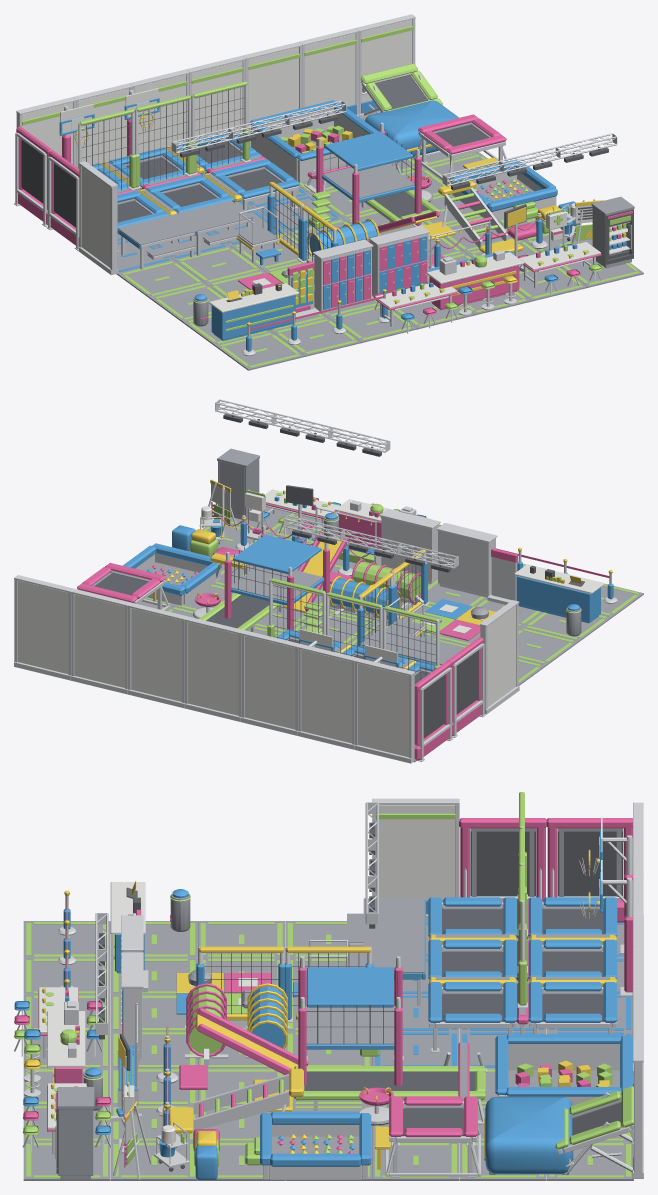
File: trampoline-park-soft-play-starter.glb
3 views of the same model, one above another, from view 1: azimuth 30°, elevation 25°; view 2: azimuth 150°, elevation 25°; view 3: azimuth 270°, elevation 25° (orthographic). The views are drawn at different scales.
Visible parts, largest first — view 1: 054-wall-panel-module/0, 053-wall-panel-module/0, 052-wall-panel-module/0, 079-foam-pit-frame-with-cubes/0, 051-wall-panel-module/0, 050-wall-panel-module/0, 085-soft-play-frame-tower-with-slide/2, 058-wall-panel-module/0, 082-airbag-landing-block/0, 055-wall-panel-module/0, 099-reception-desk-with-screen/0, 085-soft-play-frame-tower-with-slide/1 (+90 smaller); view 2: 055-wall-panel-module/0, 051-wall-panel-module/0, 050-wall-panel-module/0, 049-wall-panel-module/0, 053-wall-panel-module/0, 052-wall-panel-module/0, 054-wall-panel-module/0, 101-locker-bank/0, 102-locker-bank/0, 058-wall-panel-module/0, 085-soft-play-frame-tower-with-slide/2, 099-reception-desk-with-screen/0 (+47 smaller); view 3: 058-wall-panel-module/0, 082-airbag-landing-block/0, 085-soft-play-frame-tower-with-slide/1, 085-soft-play-frame-tower-with-slide/2, 086-ball-pit-frame-with-balls/2, 079-foam-pit-frame-with-cubes/2, 056-wall-trampoline-module/1, 085-soft-play-frame-tower-with-slide/3, 113-vending-machine/0, 057-wall-trampoline-module/1, 080-tumble-track-lane/1, 079-foam-pit-frame-with-cubes/0 (+93 smaller).
Part boxes in pixels (x1,y1,x2,y2): 054-wall-panel-module/0: (305, 33, 355, 106); 053-wall-panel-module/0: (248, 47, 298, 129); 052-wall-panel-module/0: (192, 61, 242, 139); 079-foam-pit-frame-with-cubes/0: (251, 108, 368, 182); 051-wall-panel-module/0: (135, 75, 185, 153); 050-wall-panel-module/0: (79, 88, 129, 164); 085-soft-play-frame-tower-with-slide/2: (322, 131, 414, 202); 058-wall-panel-module/0: (81, 167, 110, 267); 082-airbag-landing-block/0: (365, 100, 458, 157); 055-wall-panel-module/0: (361, 19, 412, 102); 099-reception-desk-with-screen/0: (211, 295, 295, 340); 085-soft-play-frame-tower-with-slide/1: (316, 130, 444, 267); 055-wall-panel-module/0: (17, 580, 68, 673); 051-wall-panel-module/0: (244, 636, 295, 729); 050-wall-panel-module/0: (301, 649, 351, 743); 049-wall-panel-module/0: (358, 663, 408, 757); 053-wall-panel-module/0: (131, 608, 181, 701); 052-wall-panel-module/0: (188, 622, 238, 715); 054-wall-panel-module/0: (74, 594, 124, 687); 101-locker-bank/0: (436, 523, 497, 597); 102-locker-bank/0: (380, 509, 440, 583); 058-wall-panel-module/0: (487, 606, 516, 706); 085-soft-play-frame-tower-with-slide/2: (231, 534, 324, 605); 099-reception-desk-with-screen/0: (516, 576, 600, 623); 058-wall-panel-module/0: (379, 805, 455, 899); 082-airbag-landing-block/0: (485, 1097, 573, 1174); 085-soft-play-frame-tower-with-slide/1: (179, 967, 402, 1089); 085-soft-play-frame-tower-with-slide/2: (305, 967, 395, 1049); 086-ball-pit-frame-with-balls/2: (260, 1111, 371, 1166); 079-foam-pit-frame-with-cubes/2: (495, 1034, 632, 1096); 056-wall-trampoline-module/1: (557, 831, 622, 896); 085-soft-play-frame-tower-with-slide/3: (305, 1005, 395, 1044); 113-vending-machine/0: (57, 1087, 94, 1179); 057-wall-trampoline-module/1: (470, 831, 535, 896); 080-tumble-track-lane/1: (304, 1071, 475, 1090); 079-foam-pit-frame-with-cubes/0: (498, 1044, 619, 1105).
Size of the model in its own units: 14.41 by 3.99 by 14.45.
